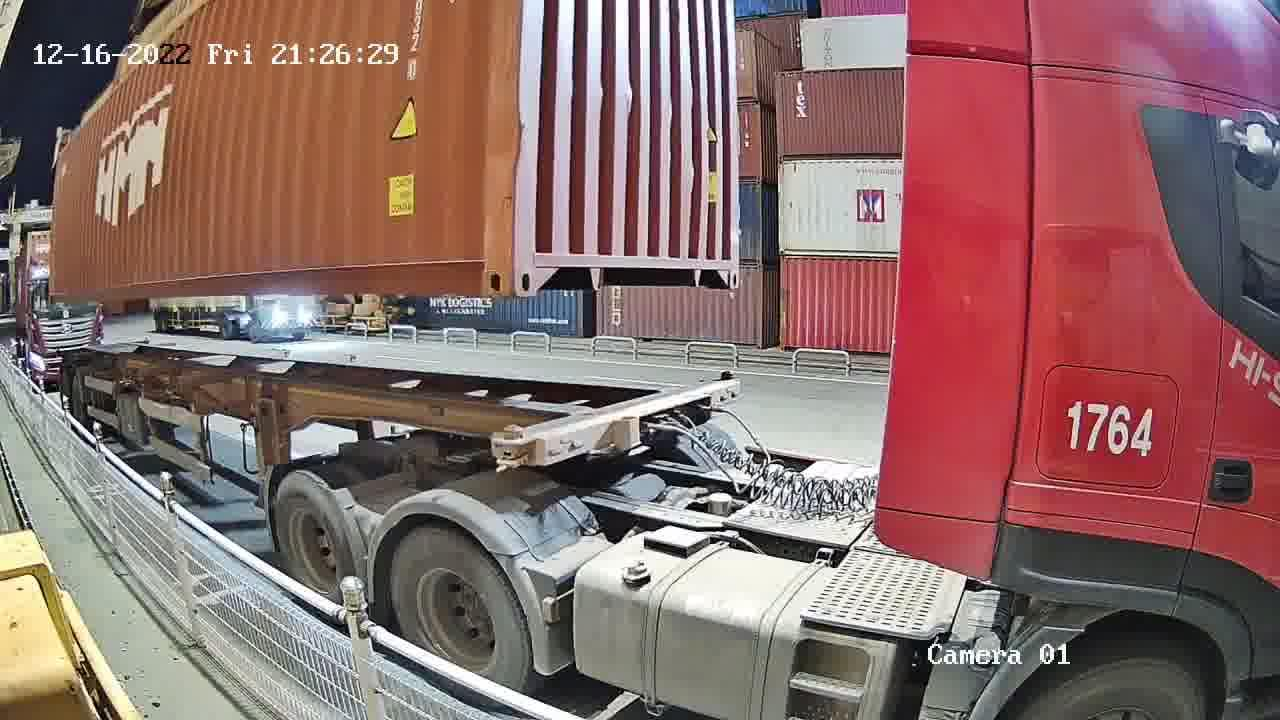Chassis: (519, 379, 739, 467)
Cone: (493, 423, 528, 467), (721, 370, 740, 401)
Hole_L: (518, 235, 563, 297)
Hole_R: (461, 231, 518, 294), (707, 238, 741, 290)
Tire: (390, 525, 530, 690), (272, 475, 357, 601)
